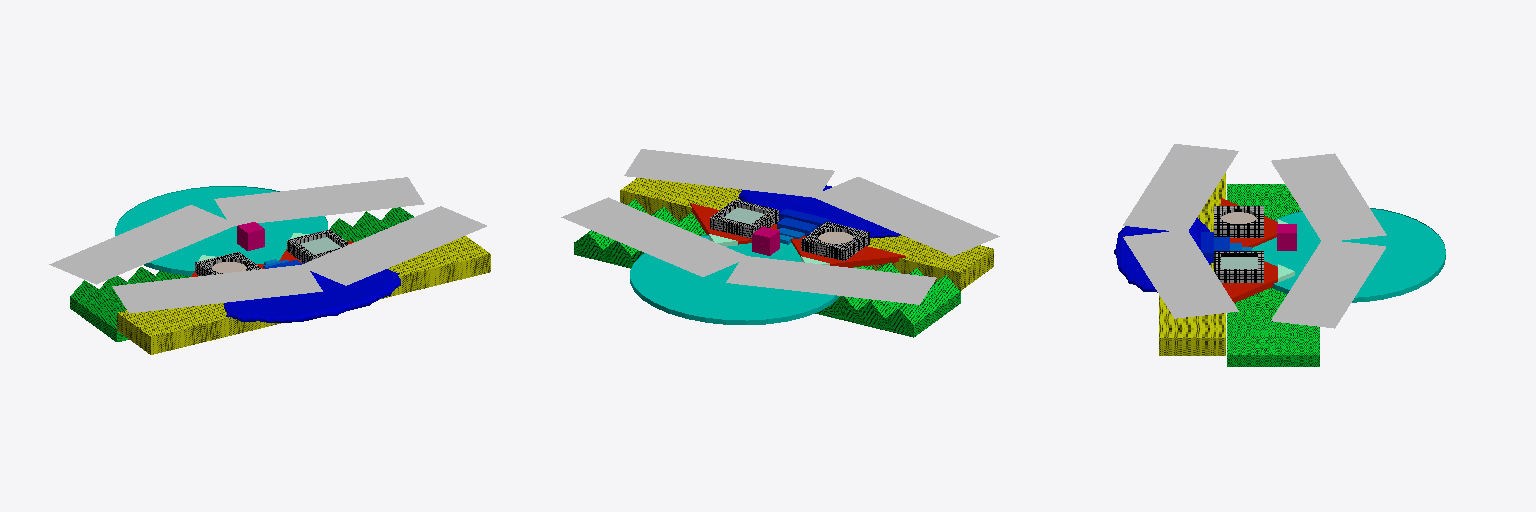
3 views of the same model, side by side, from view 1: azimuth 30°, elevation 25°; view 2: azimuth 150°, elevation 25°; view 3: azimuth 270°, elevation 25° (orthographic).
Visible parts, largest first — view 1: sand_Cube.015, sky_Circle.001, rightbottom_Plane.003, lefttop_Plane.006, leftbottom_Plane.004, righttop_Plane.005, water_Circle, back_Cube.001, portalsquare_Cube.004, portalround_Cube.002, square_Cube.014; view 2: sky_Circle.001, sand_Cube.015, back_Cube.001, lefttop_Plane.006, rightbottom_Plane.003, righttop_Plane.005, leftbottom_Plane.004, water_Circle, portalround_Cube.002, portalsquare_Cube.004, stoneleftbottom_Plane.001, stonerightbottom_Plane.002 (+1 smaller); view 3: sky_Circle.001, back_Cube.001, lefttop_Plane.006, rightbottom_Plane.003, leftbottom_Plane.004, righttop_Plane.005, sand_Cube.015, water_Circle, portalround_Cube.002, portalsquare_Cube.004, stonerightbottom_Plane.002, stoneleftbottom_Plane.001 (+1 smaller).
Boxes of the visible parts, x1,y1,x2,y2 form: sand_Cube.015: [117, 236, 490, 354]; sky_Circle.001: [115, 186, 327, 275]; rightbottom_Plane.003: [300, 206, 486, 285]; lefttop_Plane.006: [49, 205, 237, 284]; leftbottom_Plane.004: [112, 265, 322, 313]; righttop_Plane.005: [214, 177, 424, 225]; water_Circle: [224, 269, 400, 322]; back_Cube.001: [70, 207, 413, 341]; portalsquare_Cube.004: [287, 230, 349, 262]; portalround_Cube.002: [195, 252, 261, 275]; square_Cube.014: [237, 222, 264, 250]; sky_Circle.001: [630, 235, 838, 324]; sand_Cube.015: [620, 178, 993, 290]; back_Cube.001: [574, 199, 960, 337]; lefttop_Plane.006: [726, 256, 936, 304]; rightbottom_Plane.003: [624, 149, 834, 197]; righttop_Plane.005: [561, 197, 749, 276]; leftbottom_Plane.004: [811, 177, 999, 255]; water_Circle: [738, 185, 900, 237]; portalround_Cube.002: [801, 222, 869, 260]; portalsquare_Cube.004: [710, 199, 778, 238]; stoneleftbottom_Plane.001: [791, 236, 905, 267]; stonerightbottom_Plane.002: [690, 203, 778, 244]; sky_Circle.001: [1252, 208, 1445, 302]; back_Cube.001: [1227, 184, 1319, 366]; lefttop_Plane.006: [1271, 153, 1386, 242]; rightbottom_Plane.003: [1123, 230, 1238, 318]; leftbottom_Plane.004: [1123, 144, 1238, 232]; righttop_Plane.005: [1271, 241, 1385, 328]; sand_Cube.015: [1159, 173, 1225, 355]; water_Circle: [1114, 218, 1211, 292]; portalround_Cube.002: [1214, 206, 1263, 237]; portalsquare_Cube.004: [1214, 251, 1263, 282]; stonerightbottom_Plane.002: [1222, 261, 1277, 302]; stoneleftbottom_Plane.001: [1221, 198, 1277, 247].
Bounding box in the file's own units: 12.38 × 1.76 × 9.93.
37 materials, 3 textured.